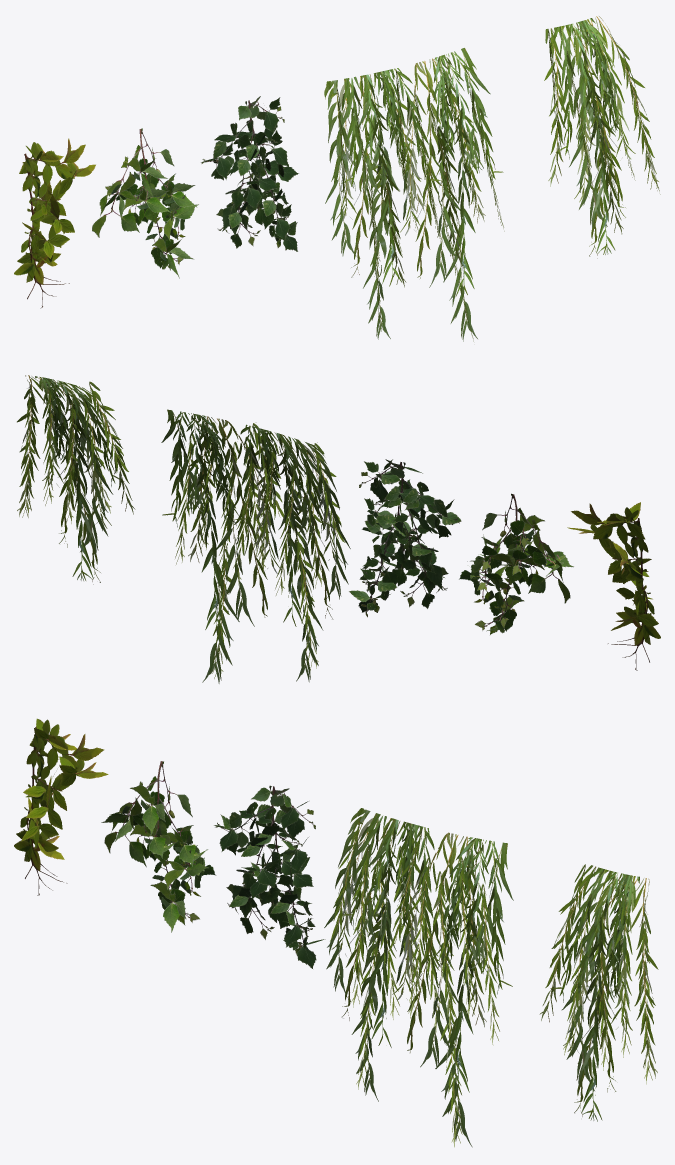
File: Vines.fbx
3 views of the same model, one above another, from view 1: azimuth 30°, elevation 25°; view 2: azimuth 150°, elevation 25°; view 3: azimuth 330°, elevation 25° (orthographic). The views are drawn at different scales.
Parts seen in each view (by area): view 1: 3DGeom~3, 3DGeom~16, 3DGeom~43, 3DGeom~159, 3DGeom~86, 3DGeom~4, 3DGeom~5, 3DGeom~17; view 2: 3DGeom~3, 3DGeom~16, 3DGeom~159, 3DGeom~86, 3DGeom~43, 3DGeom~15, 3DGeom~21, 3DGeom~8, 3DGeom~7, 3DGeom~18, 3DGeom~6, 3DGeom~14 (+8 smaller); view 3: 3DGeom~3, 3DGeom~16, 3DGeom~159, 3DGeom~43, 3DGeom~86, 3DGeom~12, 3DGeom~1, 3DGeom~10, 3DGeom~11, 3DGeom~13, 3DGeom~22, 3DGeom~14 (+4 smaller).
Boxes of the visible parts, left/top/right/bottom form: 3DGeom~3: left=324, top=48, right=503, bottom=341; 3DGeom~16: left=544, top=16, right=658, bottom=258; 3DGeom~43: left=14, top=138, right=85, bottom=308; 3DGeom~159: left=201, top=96, right=290, bottom=250; 3DGeom~86: left=92, top=128, right=193, bottom=269; 3DGeom~4: left=436, top=126, right=463, bottom=266; 3DGeom~5: left=378, top=144, right=406, bottom=287; 3DGeom~17: left=592, top=93, right=623, bottom=234; 3DGeom~3: left=161, top=409, right=350, bottom=683; 3DGeom~16: left=17, top=375, right=135, bottom=584; 3DGeom~159: left=359, top=459, right=459, bottom=617; 3DGeom~86: left=459, top=493, right=570, bottom=634; 3DGeom~43: left=571, top=503, right=660, bottom=670; 3DGeom~15: left=296, top=531, right=318, bottom=670; 3DGeom~21: left=89, top=381, right=128, bottom=473; 3DGeom~8: left=256, top=443, right=281, bottom=574; 3DGeom~7: left=231, top=454, right=258, bottom=586; 3DGeom~18: left=64, top=399, right=80, bottom=525; 3DGeom~6: left=275, top=463, right=300, bottom=595; 3DGeom~14: left=212, top=549, right=231, bottom=678; 3DGeom~3: left=324, top=808, right=513, bottom=1147; 3DGeom~16: left=539, top=865, right=658, bottom=1121; 3DGeom~159: left=215, top=785, right=315, bottom=956; 3DGeom~43: left=14, top=719, right=104, bottom=895; 3DGeom~86: left=104, top=761, right=216, bottom=925; 3DGeom~12: left=476, top=884, right=499, bottom=1045; 3DGeom~1: left=408, top=857, right=430, bottom=1018; 3DGeom~10: left=351, top=846, right=369, bottom=1007; 3DGeom~11: left=433, top=871, right=456, bottom=1032; 3DGeom~13: left=453, top=857, right=475, bottom=1019; 3DGeom~22: left=563, top=893, right=591, bottom=1055; 3DGeom~14: left=440, top=988, right=462, bottom=1147.
Bounding box in the file's own units: 3.59 × 0.4676 × 1.58.
Materials: 4 (4 with a texture image).
